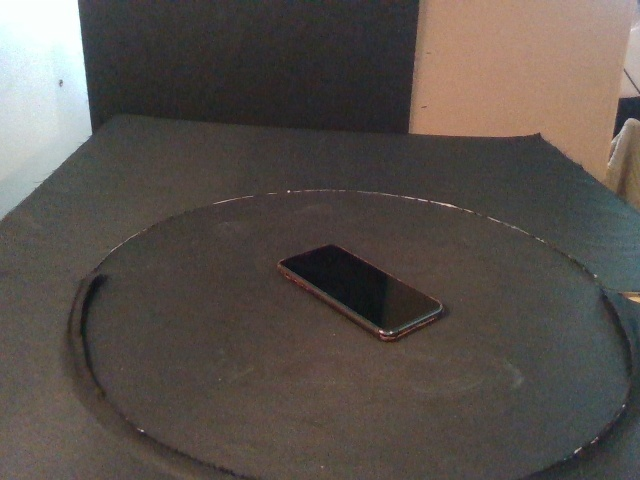phone: (276, 243, 445, 343)
